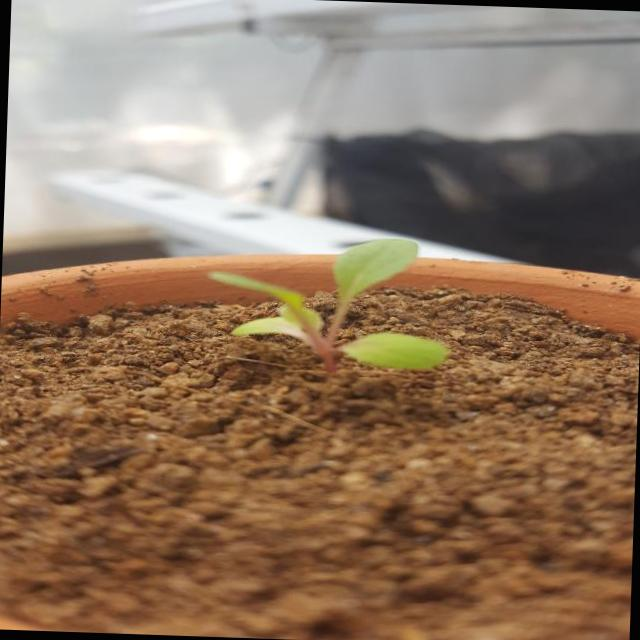Lettuce-Not-Ready-to-Harvest: (215, 238, 449, 372)
